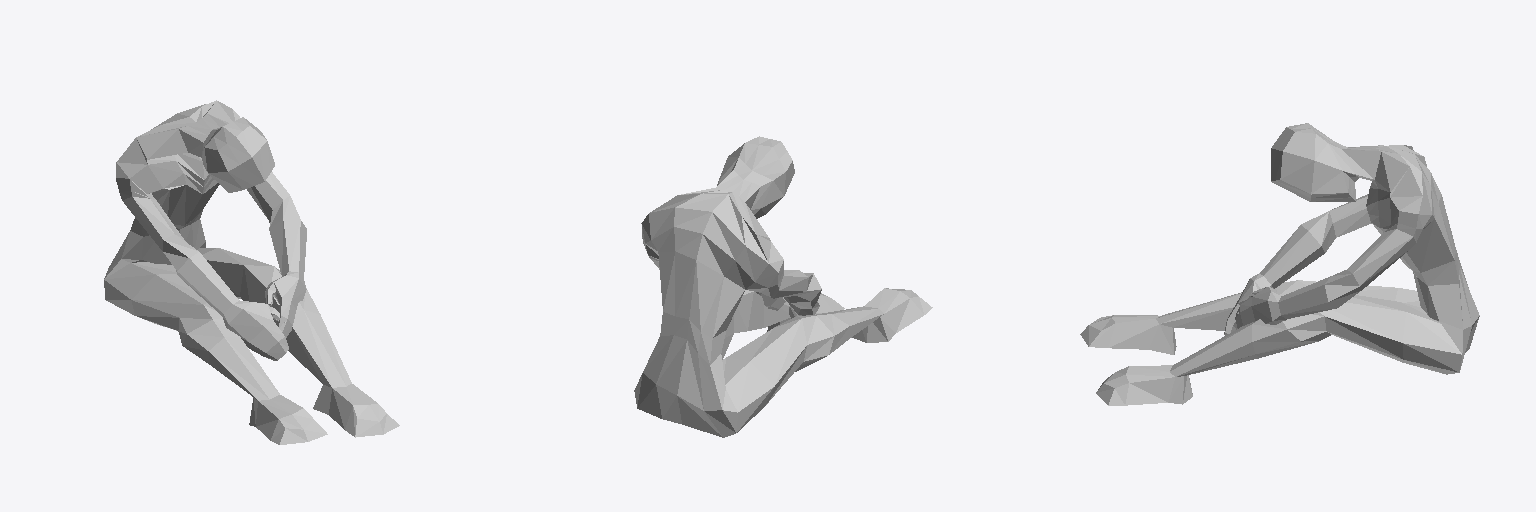
File: dead_body_8.obj
3 renders of one model, left to right at view 1: azimuth 30°, elevation 25°; view 2: azimuth 150°, elevation 25°; view 3: azimuth 270°, elevation 25°, orthographic.
Visible parts, largest first — view 1: standard; view 2: standard; view 3: standard.
Part boxes in pixels (bbox=[...]): standard: bbox=[104, 100, 399, 444]; standard: bbox=[634, 136, 932, 437]; standard: bbox=[1080, 123, 1479, 405].
Size of the model in its own units: 0.9857 by 1.56 by 2.26.